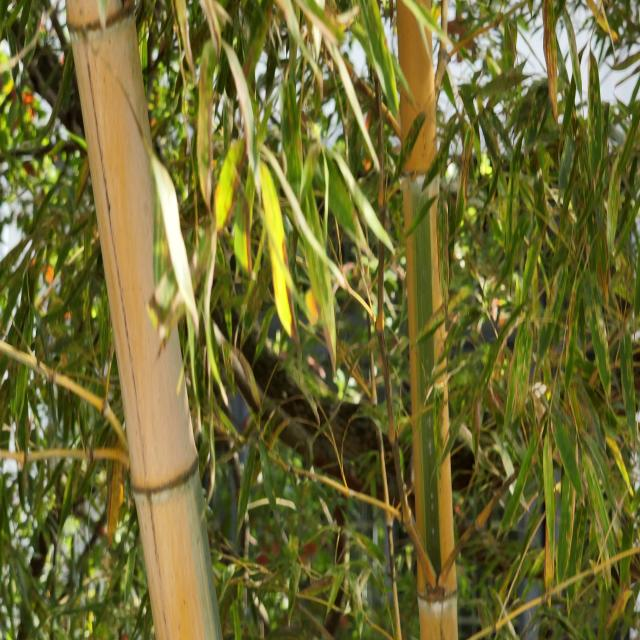Bamboo-shoots: (64, 0, 222, 640)
